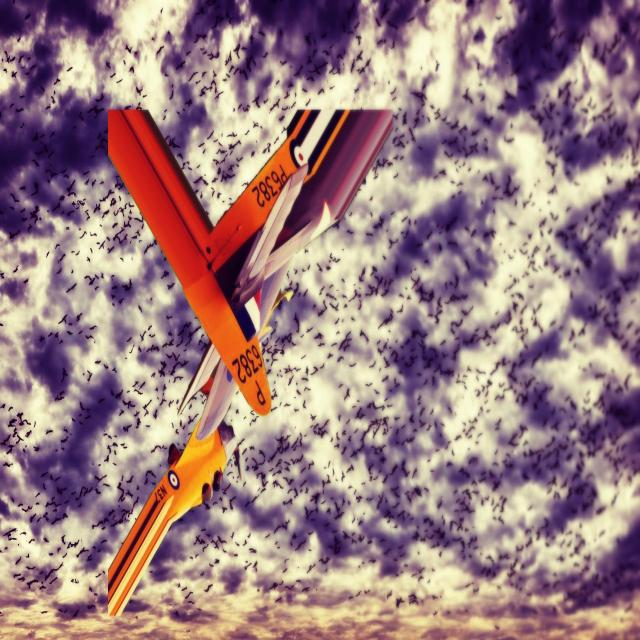airplane: (104, 103, 394, 616)
